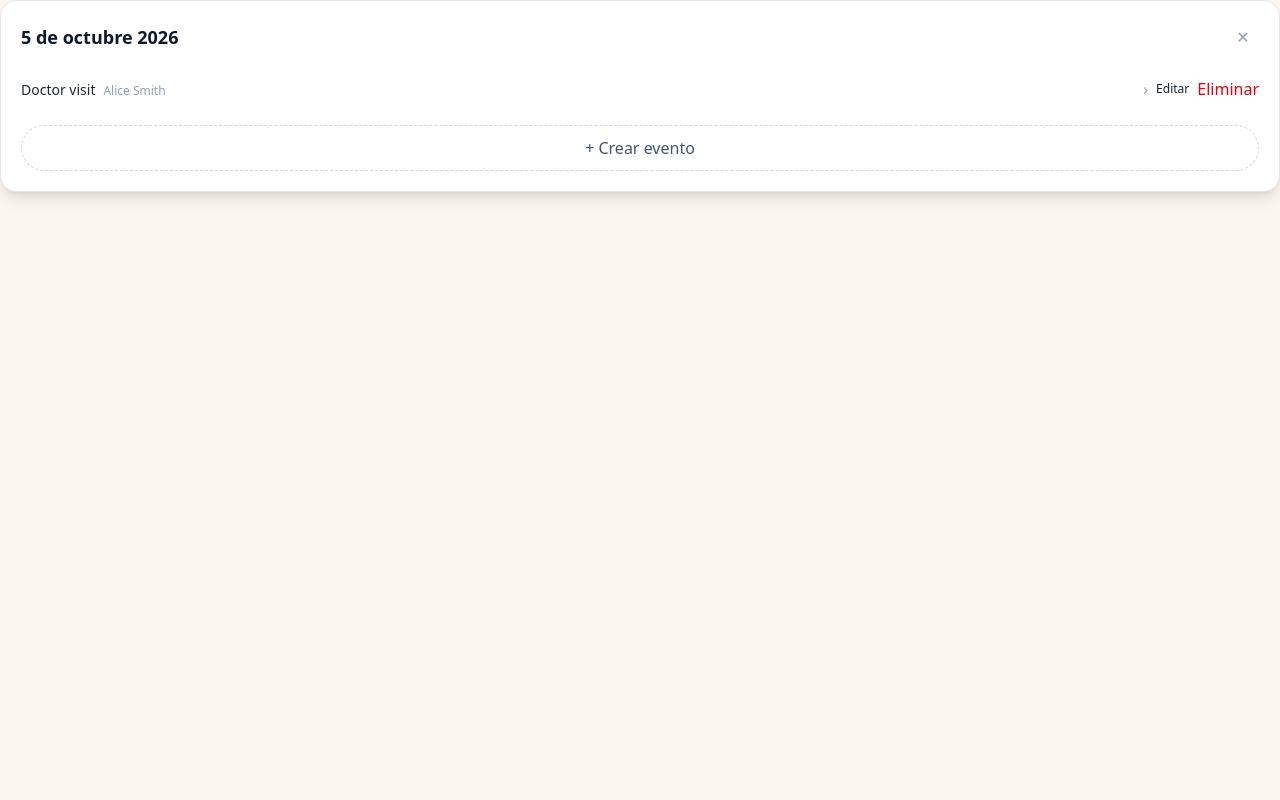
DayDetailPanel › uses year/month from props in the delete form redirectTo
Click the button "Eliminar" at (1228, 89), box [1197,77,1259,101]
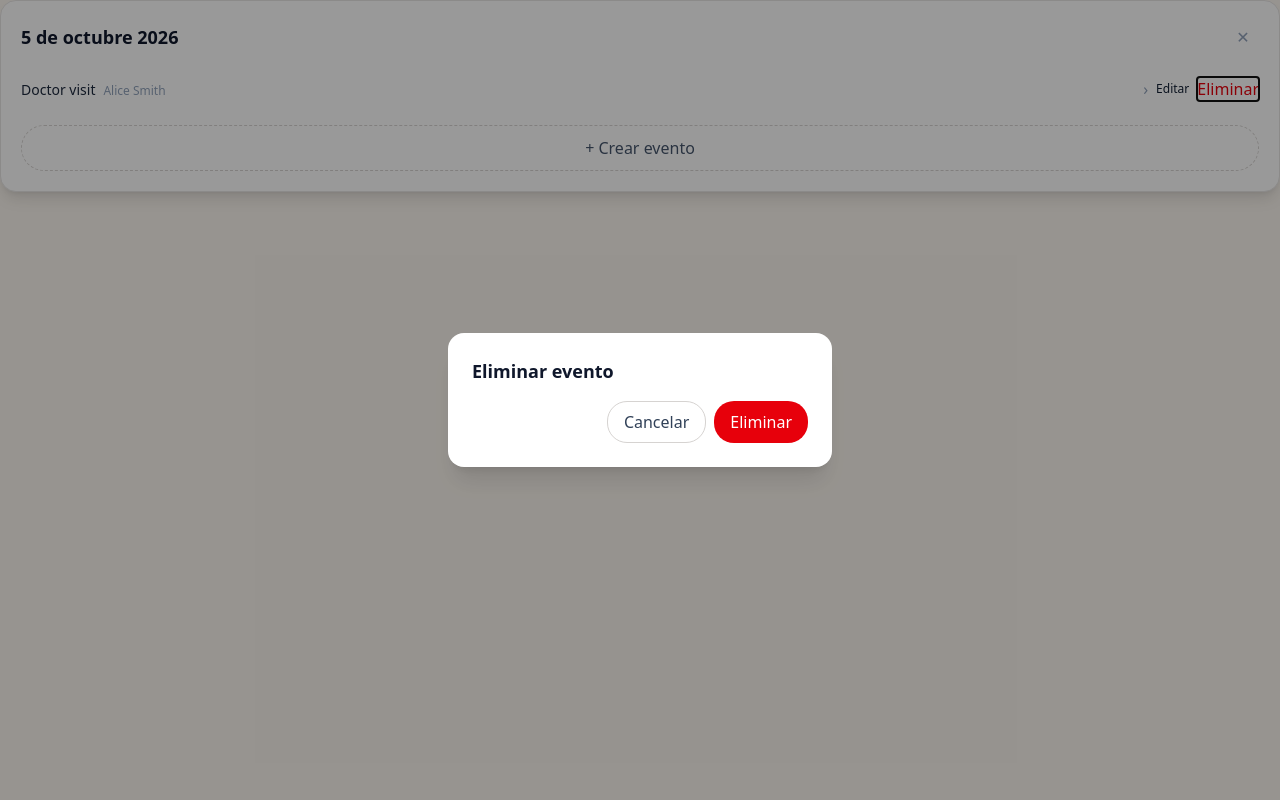
expect the form named "redirectTo" holds "/calendar?year=2026&month=10": met, box [607,401,808,443]
